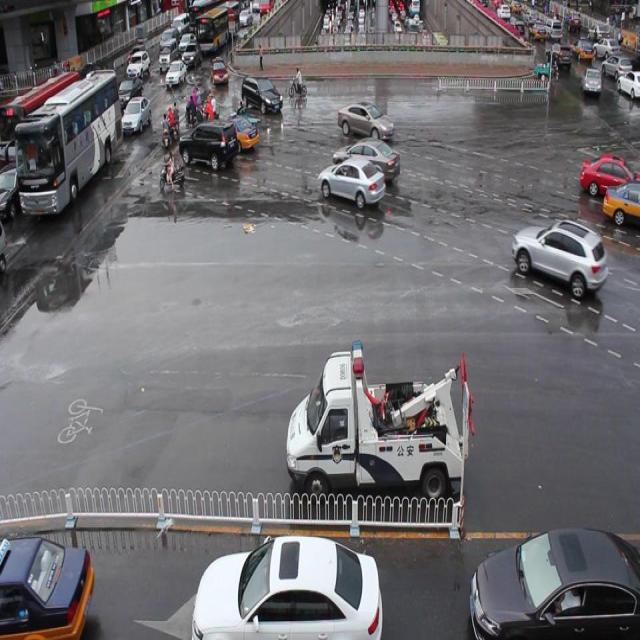bus: (285, 338, 464, 498)
car: (512, 217, 607, 297), (316, 156, 385, 210), (332, 136, 399, 186), (579, 154, 640, 198), (337, 100, 394, 144), (600, 181, 640, 229), (240, 73, 284, 114), (217, 114, 259, 152)
truck: (178, 118, 238, 170)
